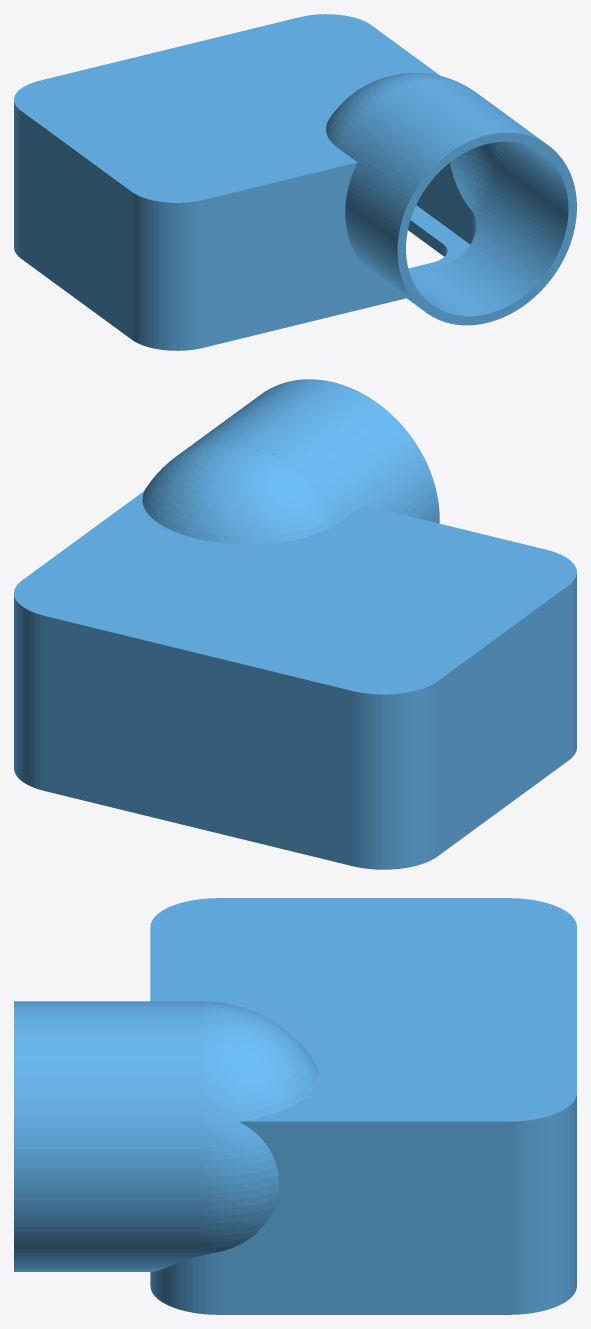
File: feed.glb
3 views of the same model, one above another, from view 1: azimuth 30°, elevation 25°; view 2: azimuth 150°, elevation 25°; view 3: azimuth 270°, elevation 25° (orthographic). The views are drawn at different scales.
Visible parts, largest first — view 1: REVIEW_EXPORT_feed; view 2: REVIEW_EXPORT_feed; view 3: REVIEW_EXPORT_feed.
Part boxes in pixels (x1,y1,x2,y2): REVIEW_EXPORT_feed: (14, 14, 576, 350); REVIEW_EXPORT_feed: (14, 379, 576, 869); REVIEW_EXPORT_feed: (14, 898, 576, 1314).
Size of the model in its own units: 0.1298 by 0.0658 by 0.132.
